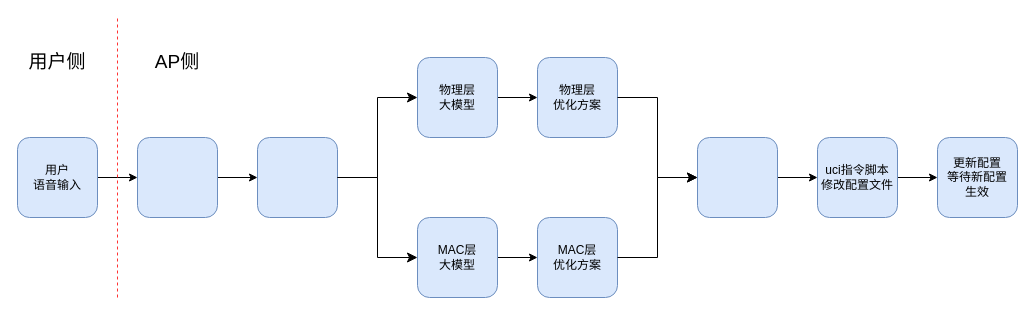
This 1035x316 diagram has some shape labels left out. Here are the shapes that lost their labels. From the top down, the centre of each, then its label:
point 177,177: 接收用户语音
point 297,177: 解析决策层 大模型
point 737,177: 最终优化方案
